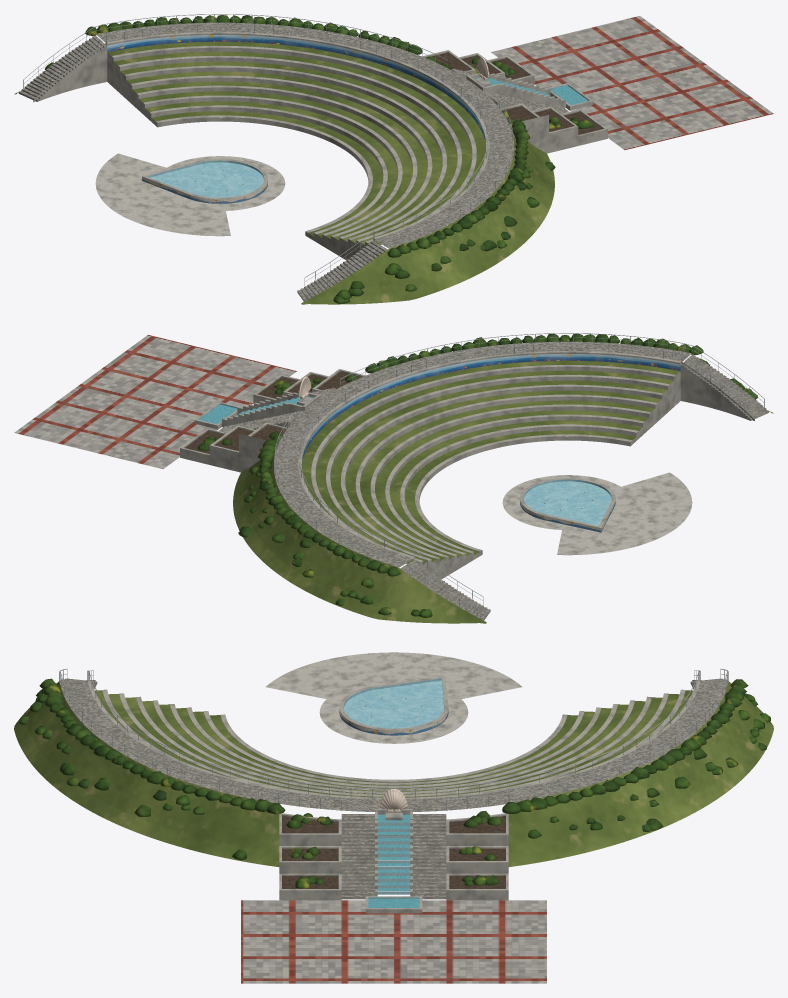
Rendered from ArahaAmphitheater.gltf.
The picture shows the model from 3 angles, top to bottom: view 1: azimuth 30°, elevation 25°; view 2: azimuth 150°, elevation 25°; view 3: azimuth 270°, elevation 25°; orthographic projection. The views are drawn at different scales.
Visible parts, largest first — view 1: ArahaAmphitheater; view 2: ArahaAmphitheater; view 3: ArahaAmphitheater.
Boxes of the visible parts, left/top/right/bottom form: ArahaAmphitheater: left=14, top=14, right=773, bottom=304; ArahaAmphitheater: left=14, top=333, right=773, bottom=623; ArahaAmphitheater: left=14, top=652, right=773, bottom=983.
Bounding box in the file's own units: 71.69 × 7.16 × 69.56.
Materials: 14 (14 with a texture image).
